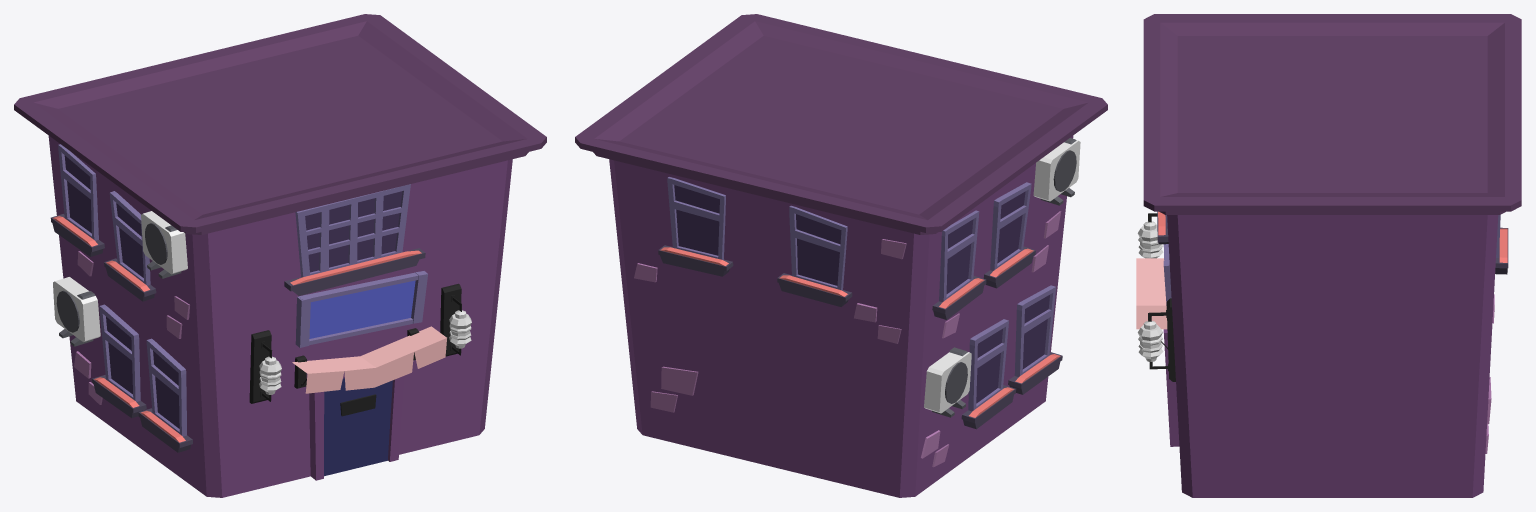
The model's file is building 3.fbx.
3 renders of one model, left to right at view 1: azimuth 30°, elevation 25°; view 2: azimuth 150°, elevation 25°; view 3: azimuth 270°, elevation 25°, orthographic. The views are drawn at different scales.
Visible parts, largest first — view 1: Cube.154; view 2: Cube.154; view 3: Cube.154.
Boxes of the visible parts, <box> form: Cube.154: <box>14,14,546,497</box>; Cube.154: <box>575,14,1107,497</box>; Cube.154: <box>1136,14,1521,497</box>.
Bounding box in the file's own units: 4655 × 3579 × 3961.
